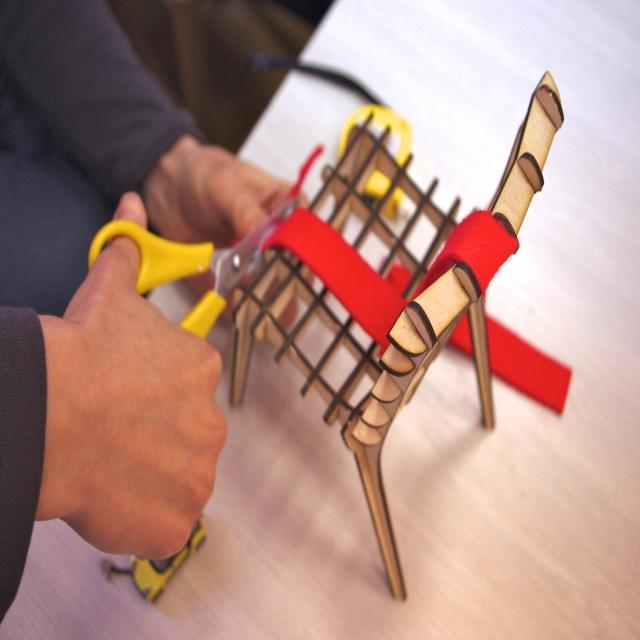Toy: (224, 67, 572, 598)
